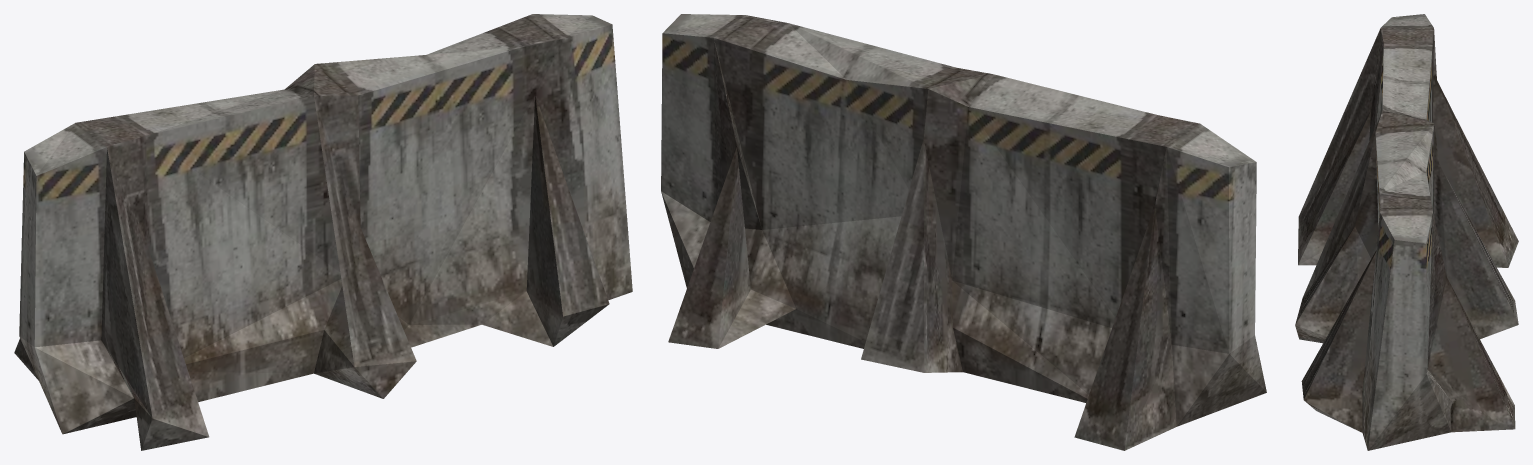
The model's file is struct.barrier.glb.
The picture shows the model from 3 angles, left to right: view 1: azimuth 30°, elevation 25°; view 2: azimuth 150°, elevation 25°; view 3: azimuth 270°, elevation 25°; orthographic projection. The views are drawn at different scales.
Visible parts, largest first — view 1: body; view 2: body; view 3: body.
Boxes of the visible parts, box(x1,y1,x2,y2) form: body: box(14, 14, 632, 450); body: box(661, 14, 1266, 450); body: box(1295, 14, 1518, 450).
Size of the model in its own units: 1.89 by 0.8431 by 0.7709.
1 material, 1 textured.
